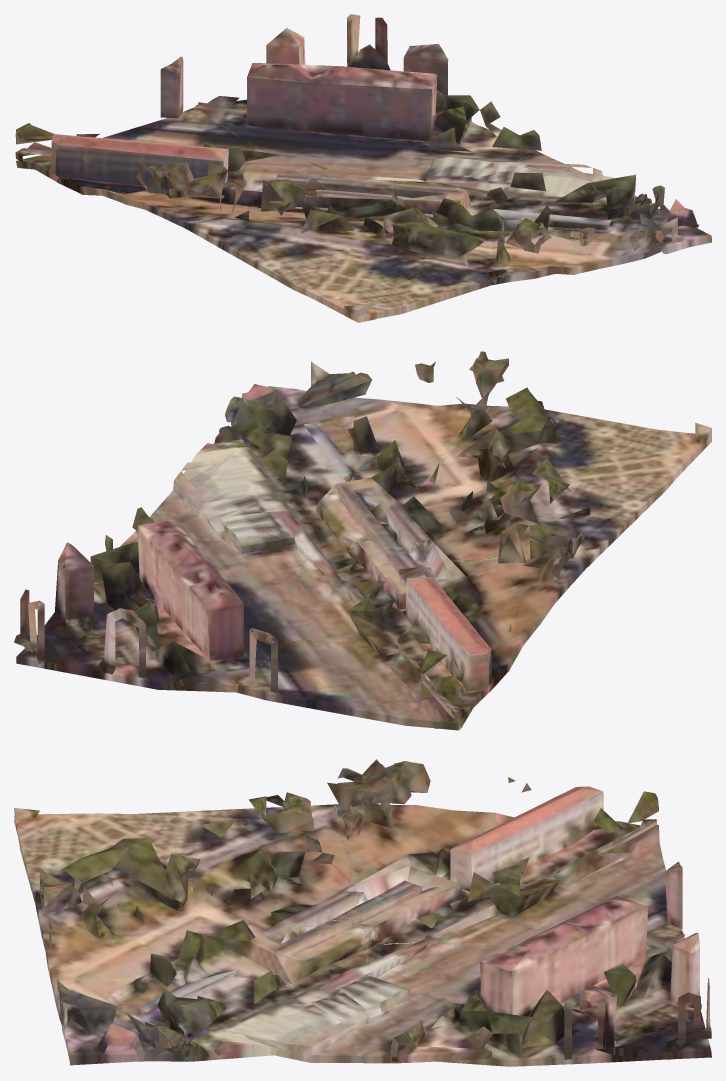
The picture shows the model from 3 angles, top to bottom: view 1: azimuth 30°, elevation 25°; view 2: azimuth 150°, elevation 25°; view 3: azimuth 270°, elevation 25°; orthographic projection. The views are drawn at different scales.
Visible parts, largest first — view 1: Mesh_0; view 2: Mesh_0; view 3: Mesh_0.
Part boxes in pixels (x1=…): Mesh_0: x1=15, y1=14, x2=711, y2=322; Mesh_0: x1=14, y1=351, x2=711, y2=730; Mesh_0: x1=14, y1=759, x2=711, y2=1066.
Size of the model in its own units: 267 by 56.91 by 330.
2 materials, 2 textured.
